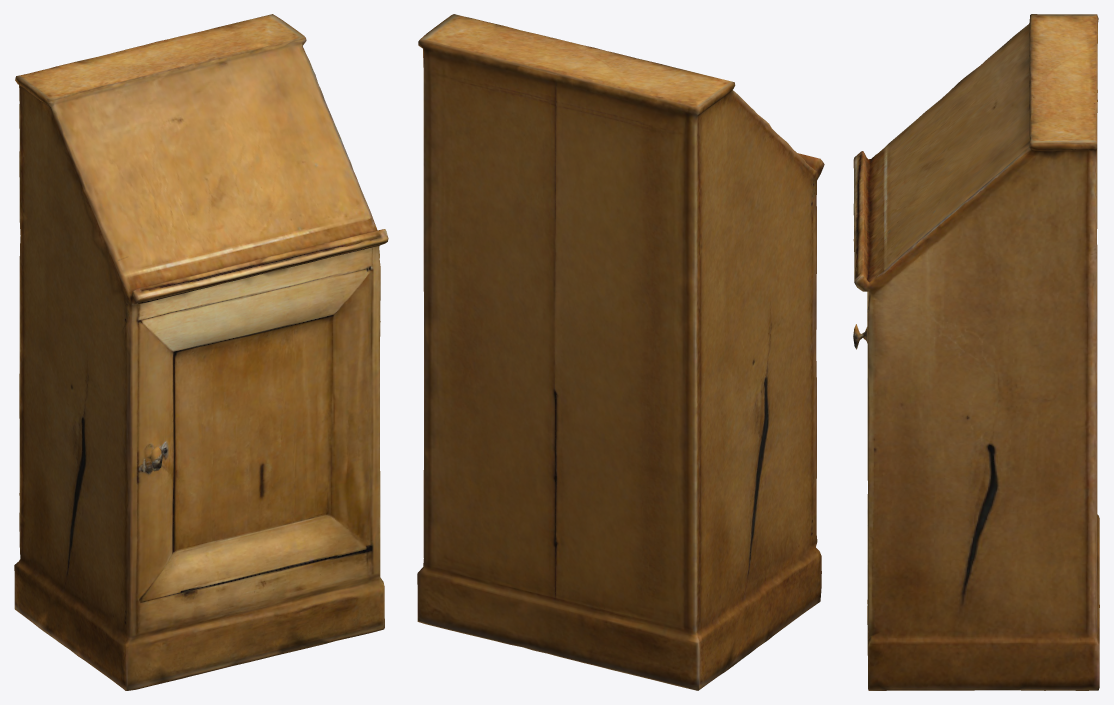
File: Meshy_Model_20250604_202642.glb
The picture shows the model from 3 angles, left to right: view 1: azimuth 30°, elevation 25°; view 2: azimuth 150°, elevation 25°; view 3: azimuth 270°, elevation 25°; orthographic projection. The views are drawn at different scales.
Size of the model in its own units: 1.02 by 2 by 0.8162.
1 material, 1 textured.
